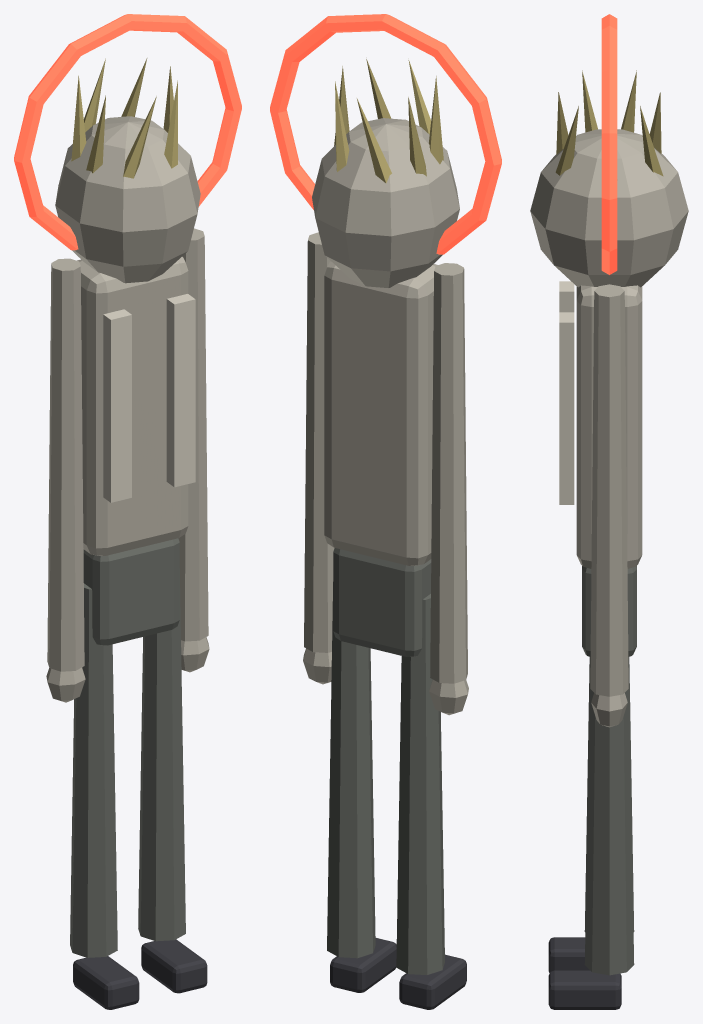
Rendered from boss_hollow_king.glb.
3 views of the same model, side by side, from view 1: azimuth 30°, elevation 25°; view 2: azimuth 150°, elevation 25°; view 3: azimuth 270°, elevation 25° (orthographic). The views are drawn at different scales.
Parts seen in each view (by area): view 1: boss_king_torso, boss_king_head, boss_king_arm_l, boss_king_leg_l, boss_king_leg_r, boss_king_halo_ring, boss_king_pelvis, boss_king_arm_r, boss_king_rib_r, boss_king_rib_l, boss_king_foot_l, boss_king_foot_r (+7 smaller); view 2: boss_king_torso, boss_king_head, boss_king_arm_l, boss_king_leg_l, boss_king_leg_r, boss_king_halo_ring, boss_king_arm_r, boss_king_pelvis, boss_king_foot_l, boss_king_foot_r, boss_king_hand_l, boss_king_hand_r (+5 smaller); view 3: boss_king_head, boss_king_arm_r, boss_king_leg_r, boss_king_torso, boss_king_halo_ring, boss_king_rib_r, boss_king_foot_r, boss_king_pelvis, boss_king_foot_l, boss_king_hand_r, boss_king_leg_l, boss_king_crown_6 (+6 smaller).
Part boxes in pixels (<box>): boss_king_torso: <box>77,256,188,555</box>; boss_king_head: <box>55,116,200,283</box>; boss_king_arm_l: <box>47,258,84,671</box>; boss_king_leg_l: <box>70,583,117,957</box>; boss_king_leg_r: <box>138,568,185,941</box>; boss_king_halo_ring: <box>14,14,241,250</box>; boss_king_pelvis: <box>83,538,179,645</box>; boss_king_arm_r: <box>178,228,208,641</box>; boss_king_rib_r: <box>166,294,195,487</box>; boss_king_rib_l: <box>103,309,131,502</box>; boss_king_foot_l: <box>73,956,139,1009</box>; boss_king_foot_r: <box>141,939,207,993</box>; boss_king_torso: <box>324,261,437,565</box>; boss_king_head: <box>312,118,459,287</box>; boss_king_arm_l: <box>430,263,467,683</box>; boss_king_leg_l: <box>396,594,444,974</box>; boss_king_leg_r: <box>327,582,375,958</box>; boss_king_halo_ring: <box>270,14,501,254</box>; boss_king_arm_r: <box>304,232,334,652</box>; boss_king_pelvis: <box>333,548,431,656</box>; boss_king_foot_l: <box>399,954,466,1009</box>; boss_king_foot_r: <box>330,938,396,992</box>; boss_king_hand_l: <box>429,679,468,715</box>; boss_king_hand_r: <box>303,648,331,684</box>; boss_king_head: <box>530,129,688,287</box>; boss_king_arm_r: <box>590,284,628,696</box>; boss_king_leg_r: <box>584,657,634,975</box>; boss_king_torso: <box>576,285,642,568</box>; boss_king_halo_ring: <box>601,14,617,274</box>; boss_king_rib_r: <box>559,312,574,504</box>; boss_king_foot_r: <box>548,970,621,1009</box>; boss_king_pelvis: <box>582,566,636,656</box>; boss_king_foot_l: <box>548,937,589,973</box>; boss_king_hand_r: <box>591,693,627,727</box>; boss_king_leg_l: <box>584,657,634,931</box>; boss_king_crown_6: <box>555,106,578,175</box>.
Bounding box in the file's own units: 0.86 × 3.48 × 0.52.
